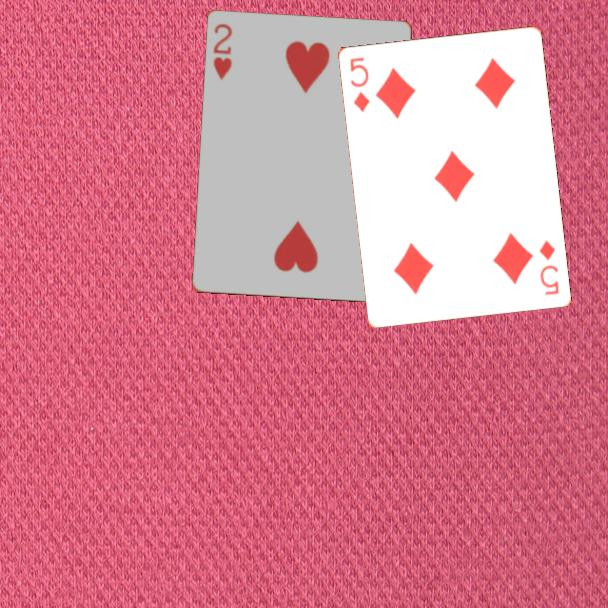d05: (346, 53, 372, 115), (535, 236, 561, 297)
h02: (210, 20, 236, 83)
